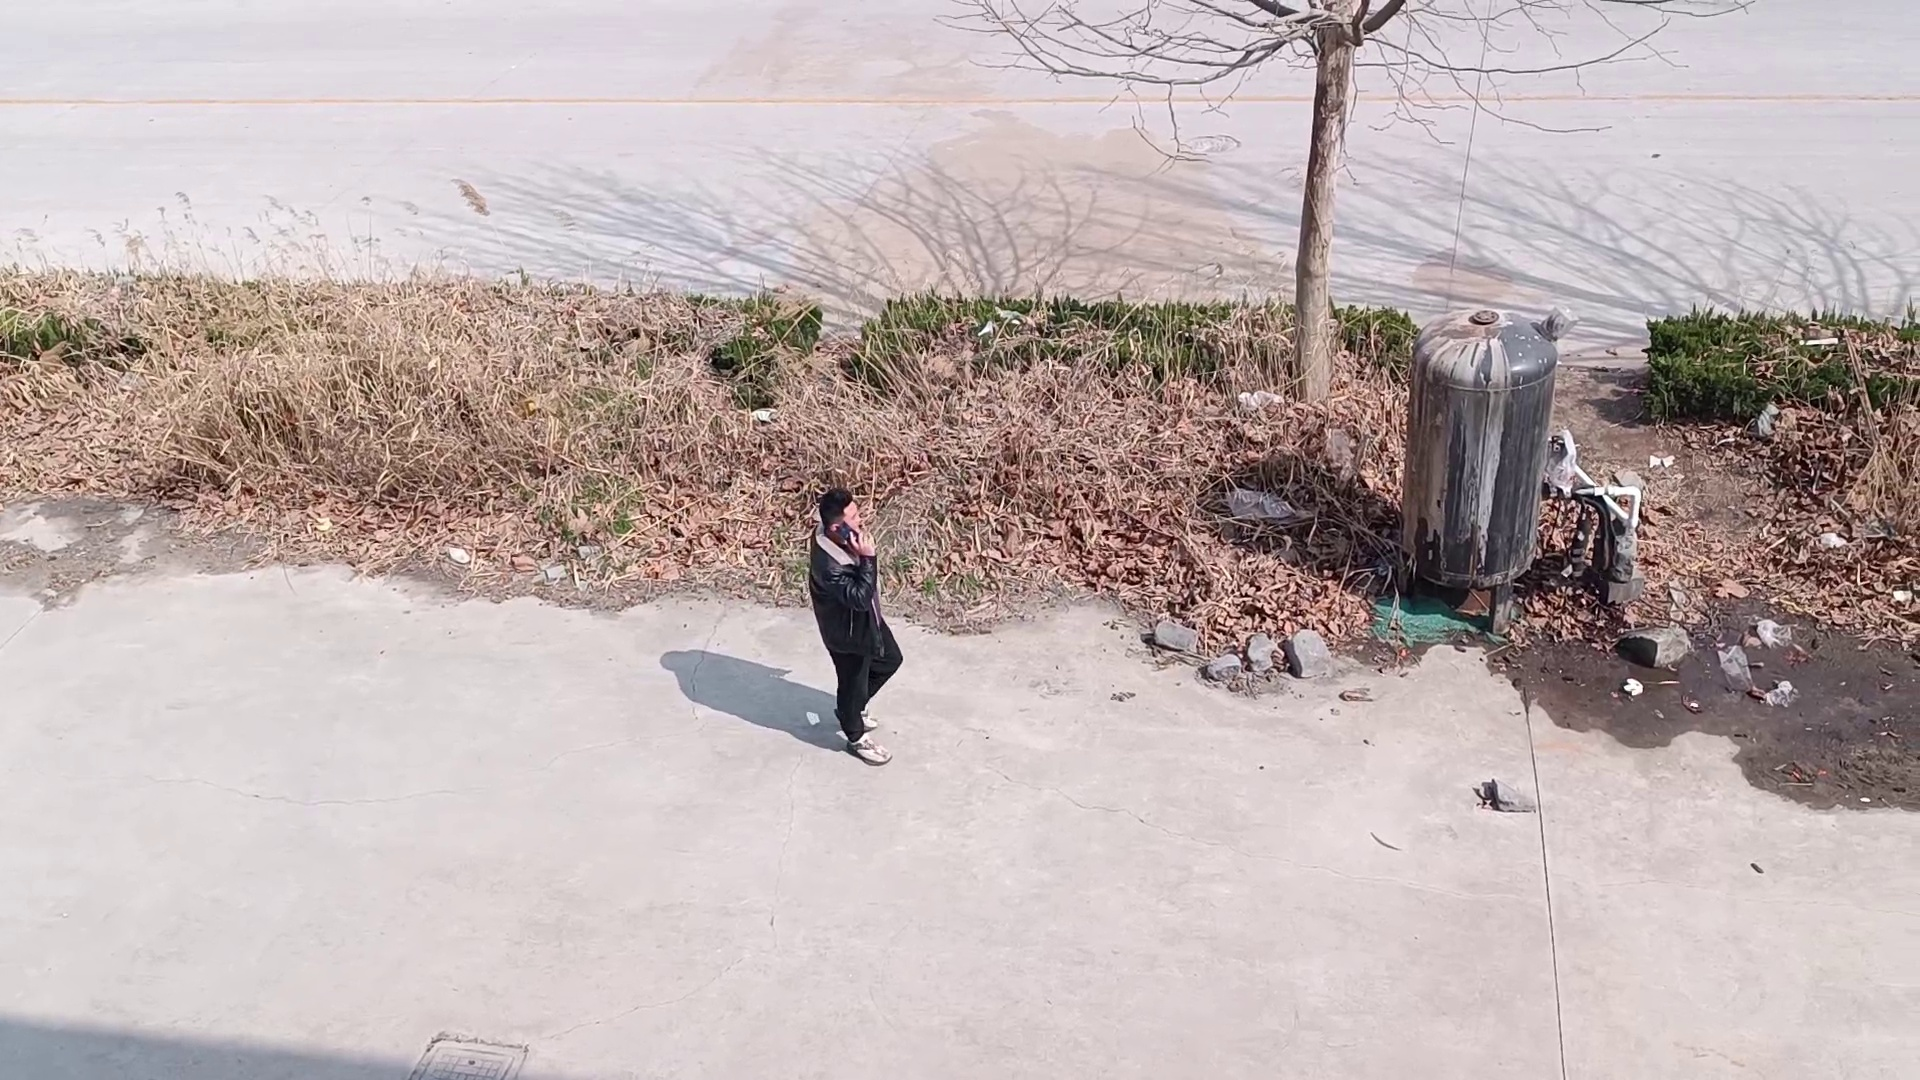phone: (807, 491, 872, 558)
